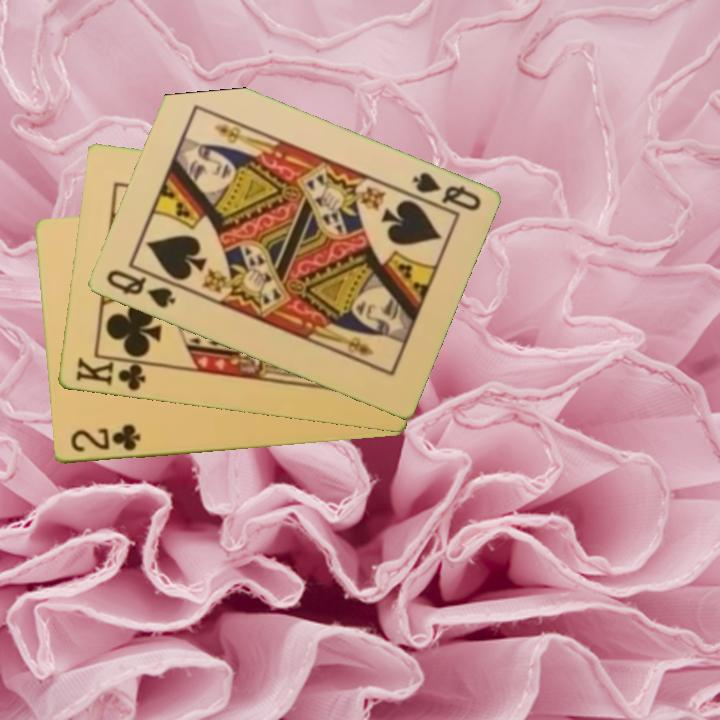2c: (67, 421, 143, 456)
Kc: (72, 354, 154, 394)
Qs: (402, 168, 484, 216), (102, 266, 178, 312)
